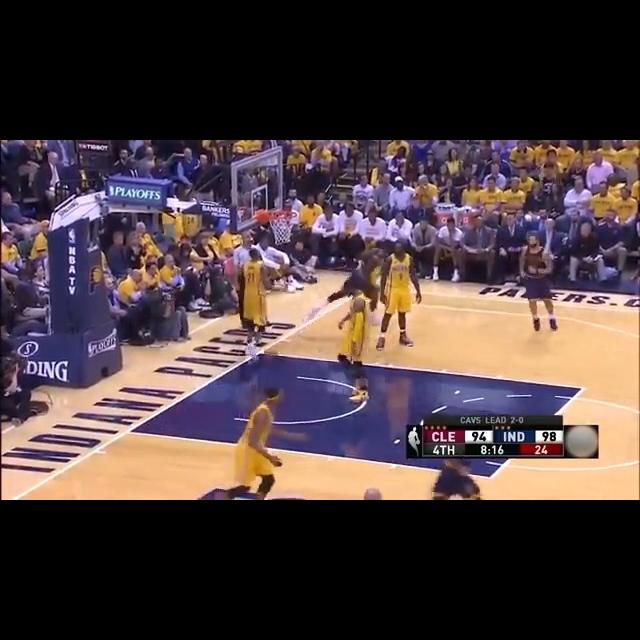hoop: (266, 210, 301, 243)
